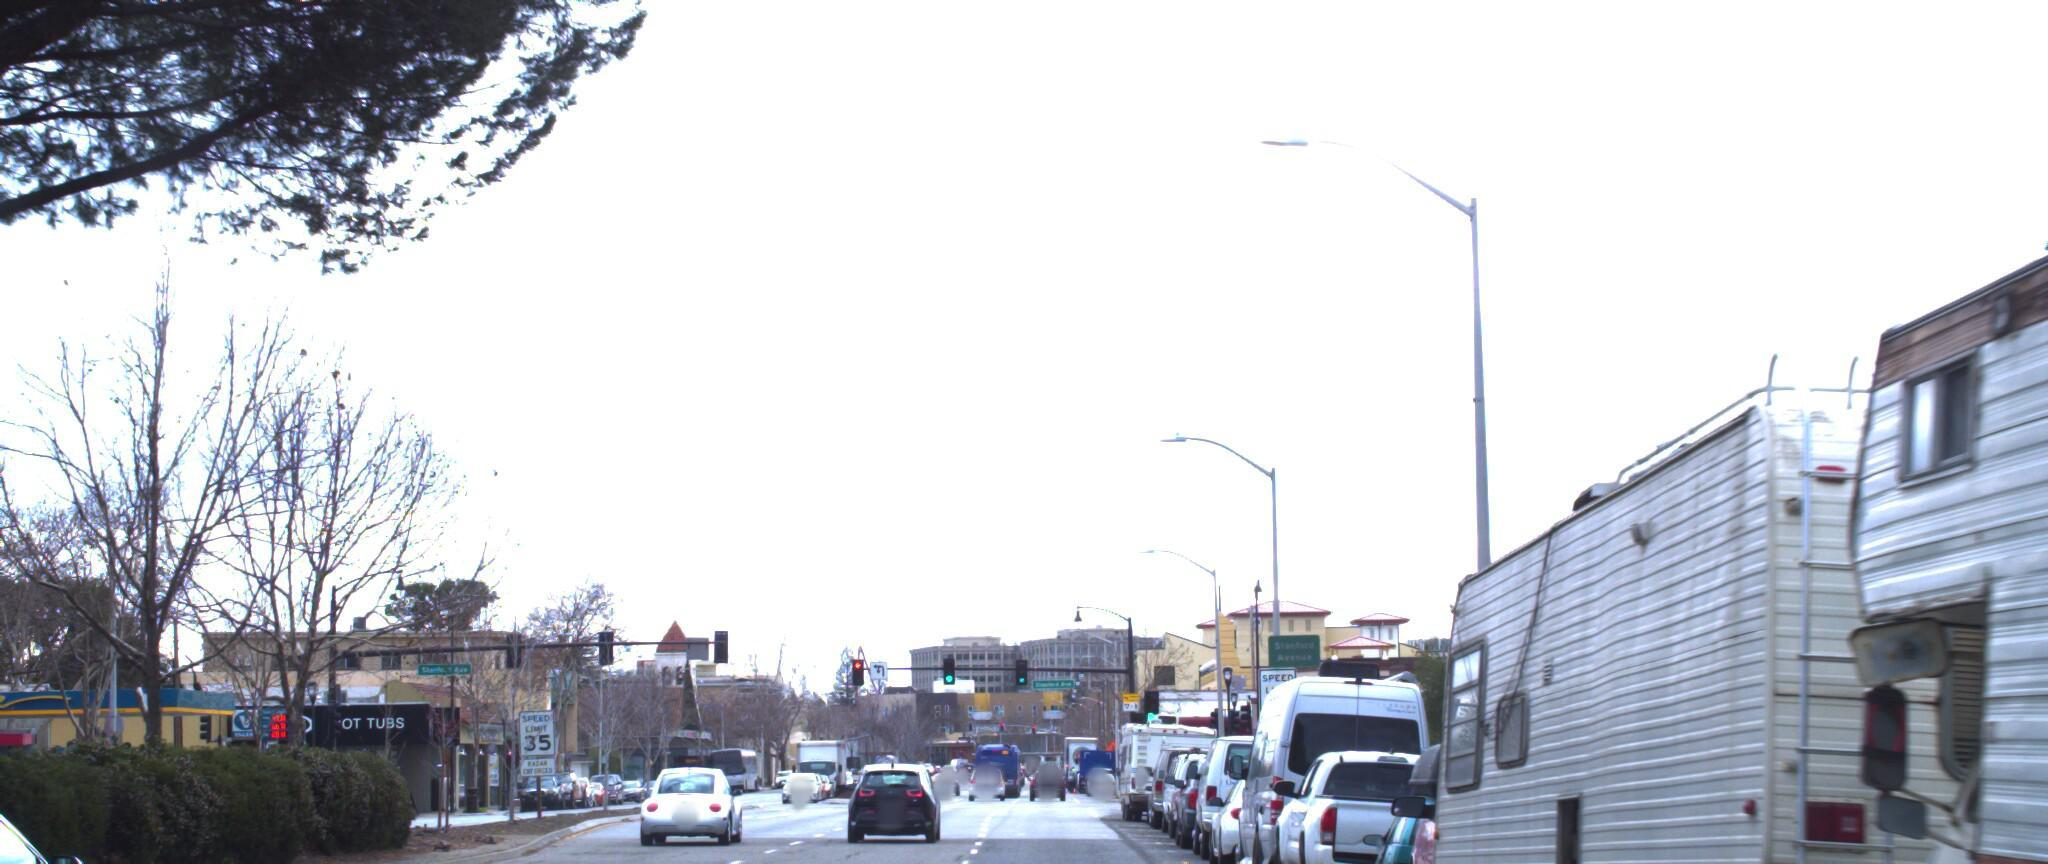car: (1371, 713, 1825, 864), (1223, 664, 1439, 864), (1334, 732, 1586, 864), (1263, 741, 1493, 864), (1187, 722, 1328, 855), (0, 778, 158, 864), (637, 744, 747, 833), (837, 747, 946, 833), (1144, 719, 1230, 814)
other_vehicle: (1384, 334, 2048, 864), (1754, 0, 2048, 864)
